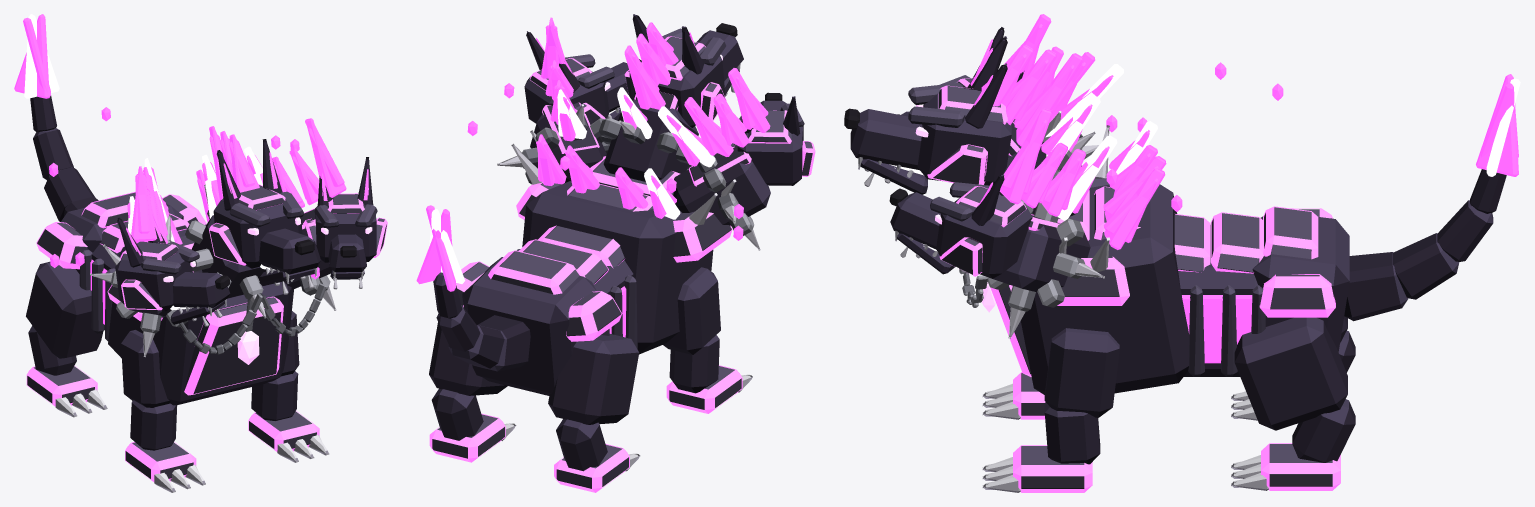
The model's file is DreadfangCerberus.fbx.
The picture shows the model from 3 angles, left to right: view 1: azimuth 30°, elevation 25°; view 2: azimuth 150°, elevation 25°; view 3: azimuth 270°, elevation 25°; orthographic projection. The views are drawn at different scales.
Parts seen in each view (by area): view 1: DreadfangCerberus_Body, DreadfangCerberus_Glow_9938ff, DreadfangCerberus_Glow_ad45ff, DreadfangCerberus_Glow_d395ff, DreadfangCerberus_Glow_c461ff; view 2: DreadfangCerberus_Body, DreadfangCerberus_Glow_9938ff, DreadfangCerberus_Glow_ad45ff, DreadfangCerberus_Glow_d395ff; view 3: DreadfangCerberus_Body, DreadfangCerberus_Glow_9938ff, DreadfangCerberus_Glow_ad45ff, DreadfangCerberus_Glow_d395ff.
Boxes of the visible parts, box(x1,y1,x2,y2) form: DreadfangCerberus_Body: box(26, 96, 386, 492); DreadfangCerberus_Glow_9938ff: box(14, 14, 368, 324); DreadfangCerberus_Glow_ad45ff: box(26, 184, 387, 482); DreadfangCerberus_Glow_d395ff: box(24, 14, 275, 310); DreadfangCerberus_Glow_c461ff: box(163, 217, 372, 364); DreadfangCerberus_Body: box(429, 14, 812, 488); DreadfangCerberus_Glow_9938ff: box(416, 17, 770, 337); DreadfangCerberus_Glow_ad45ff: box(429, 36, 815, 492); DreadfangCerberus_Glow_d395ff: box(429, 87, 715, 283); DreadfangCerberus_Body: box(844, 27, 1506, 492); DreadfangCerberus_Glow_9938ff: box(970, 14, 1518, 363); DreadfangCerberus_Glow_ad45ff: box(927, 77, 1340, 492); DreadfangCerberus_Glow_d395ff: box(889, 64, 1520, 251).
Size of the model in its own units: 2.3 by 2.71 by 4.14.
5 materials, 1 textured.
